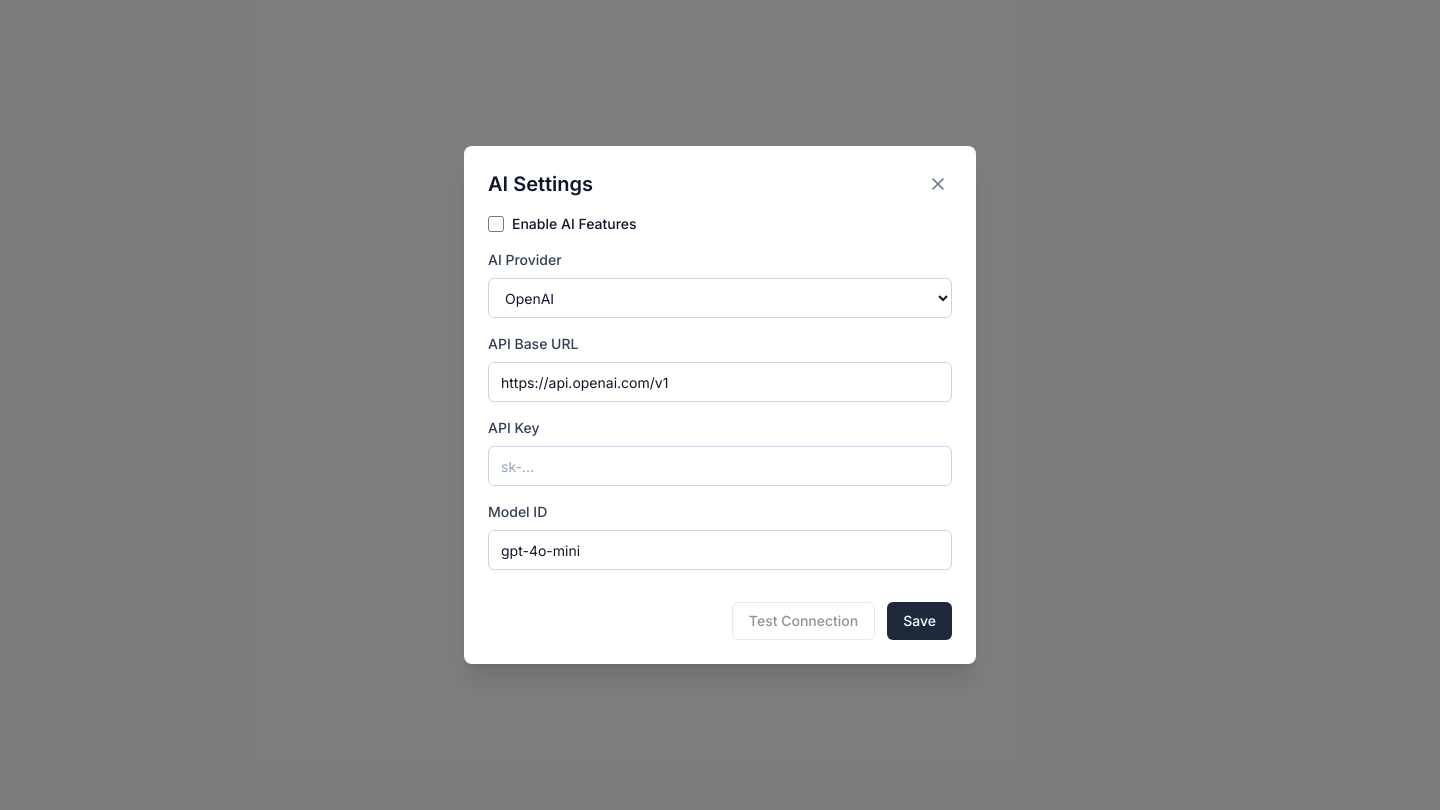
AISettingsModal › handles test connection failure
The width and height of the screenshot is (1440, 810).
Step 1. Type "invalid-key" into the password field labelled "API Key" → coordinates (720, 466), box [488,446,952,486]
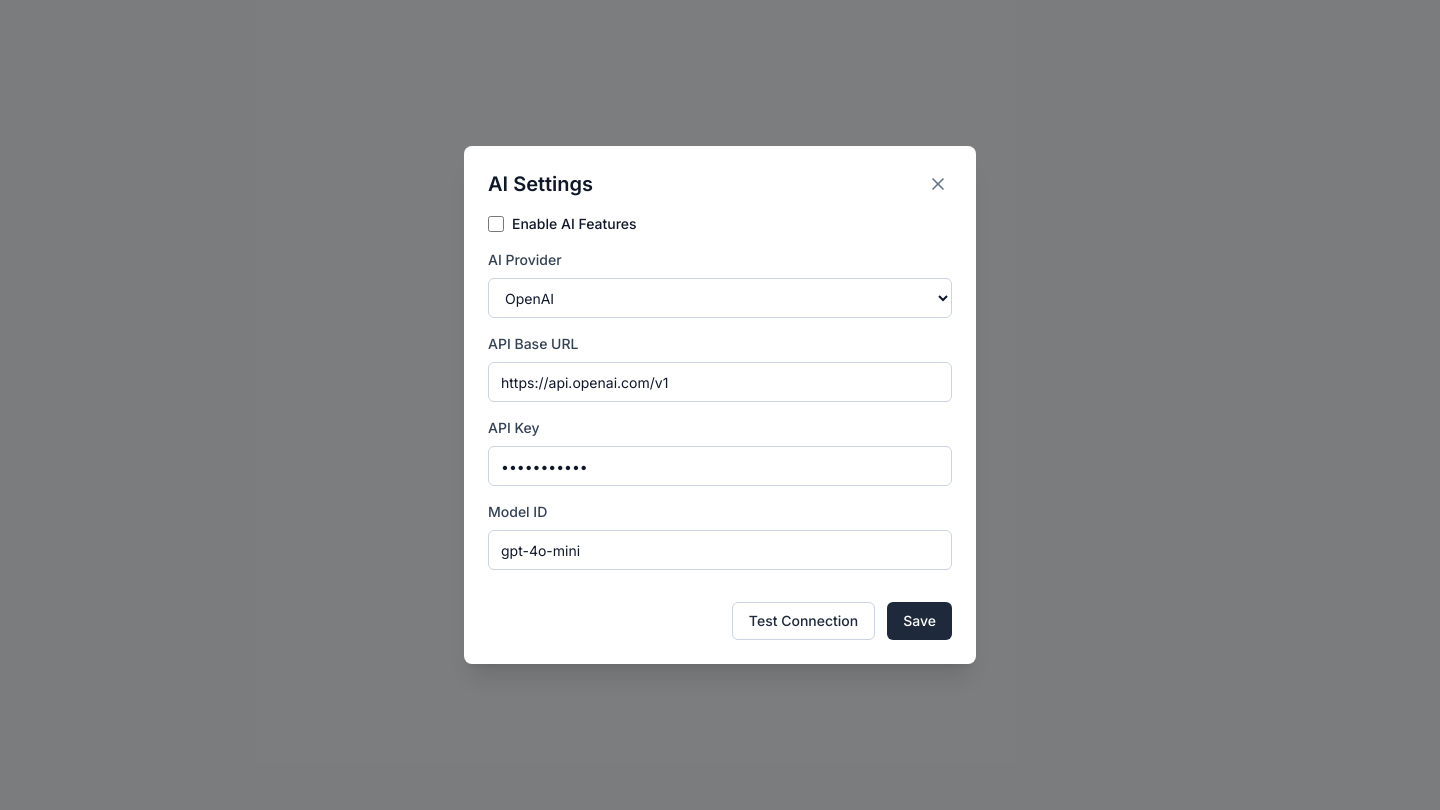
Step 2. Click the button "Test Connection" → coordinates (804, 621), box [732,602,875,640]
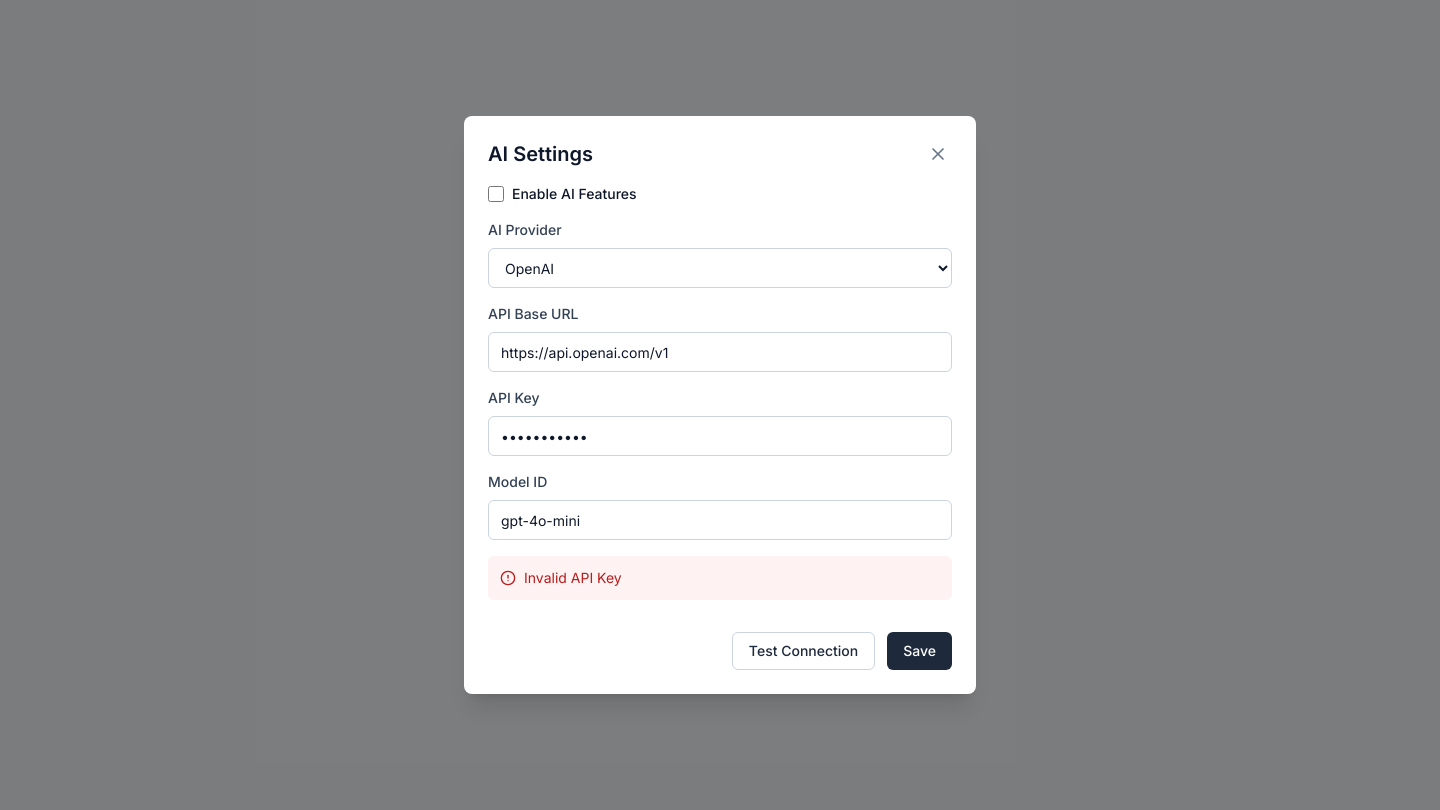
Result: the text "Invalid API Key" is shown at [524,568,622,588]
